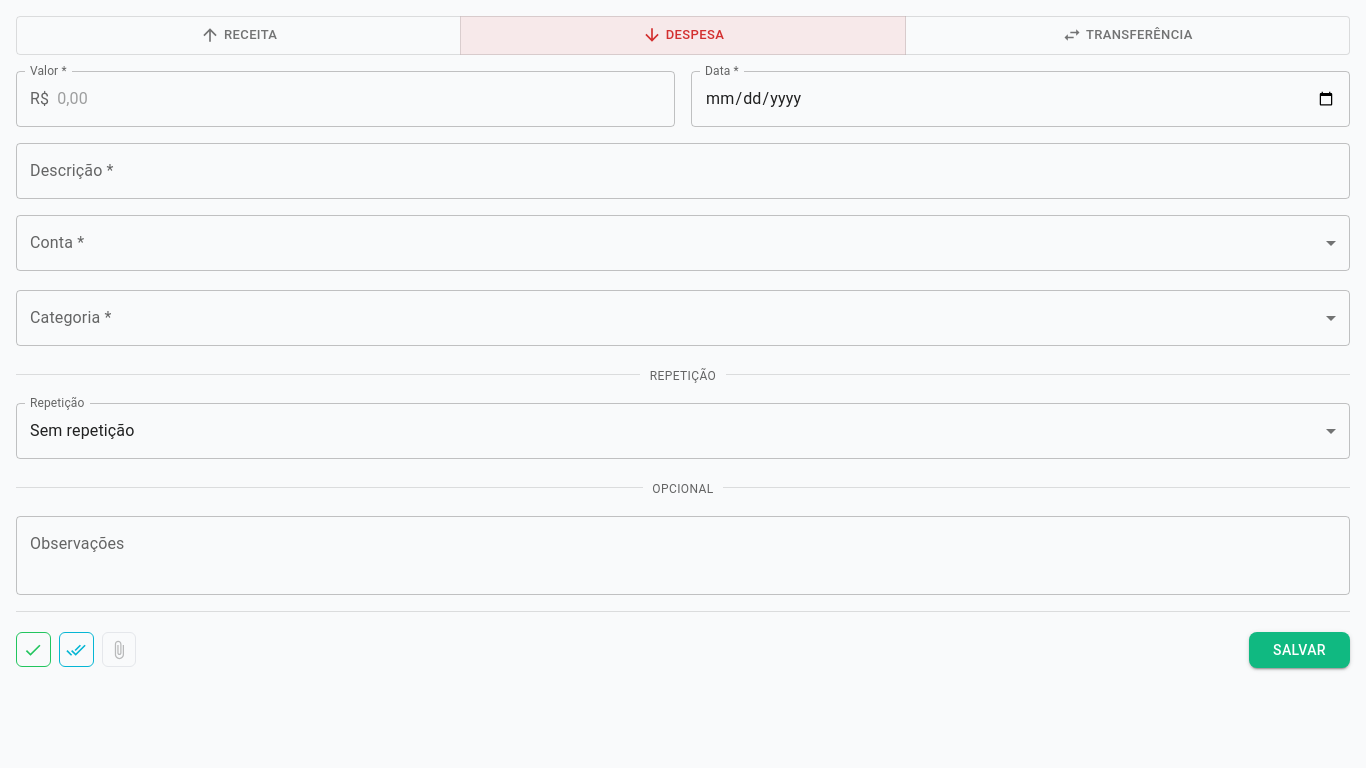
TransactionForm › deve exibir campo N parcelas quando tipo for Parcelado
Press the mouse on the dropdown labelled "Sem repetição": (82, 431) 30,421 -> 134,440
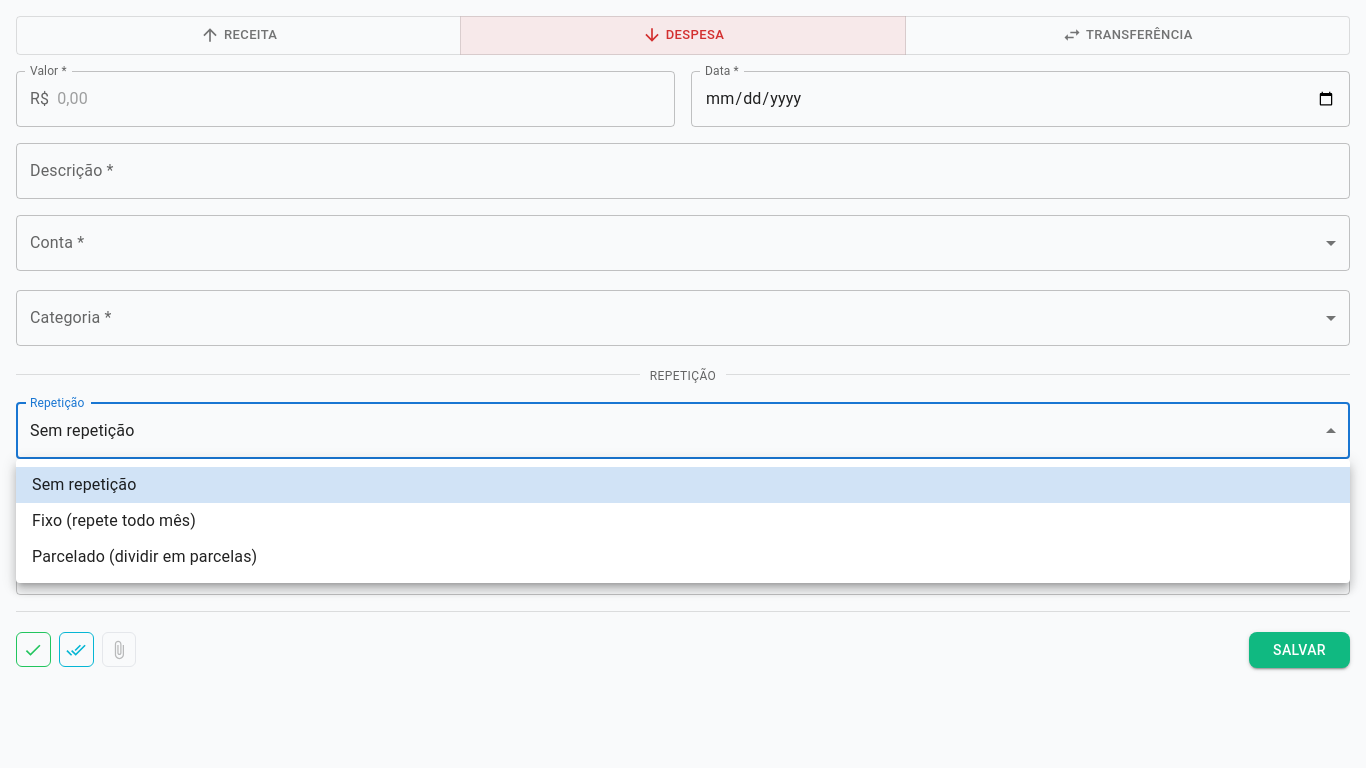
Click the option "Parcelado (dividir em parcelas)": (145, 556) 32,547 -> 257,566
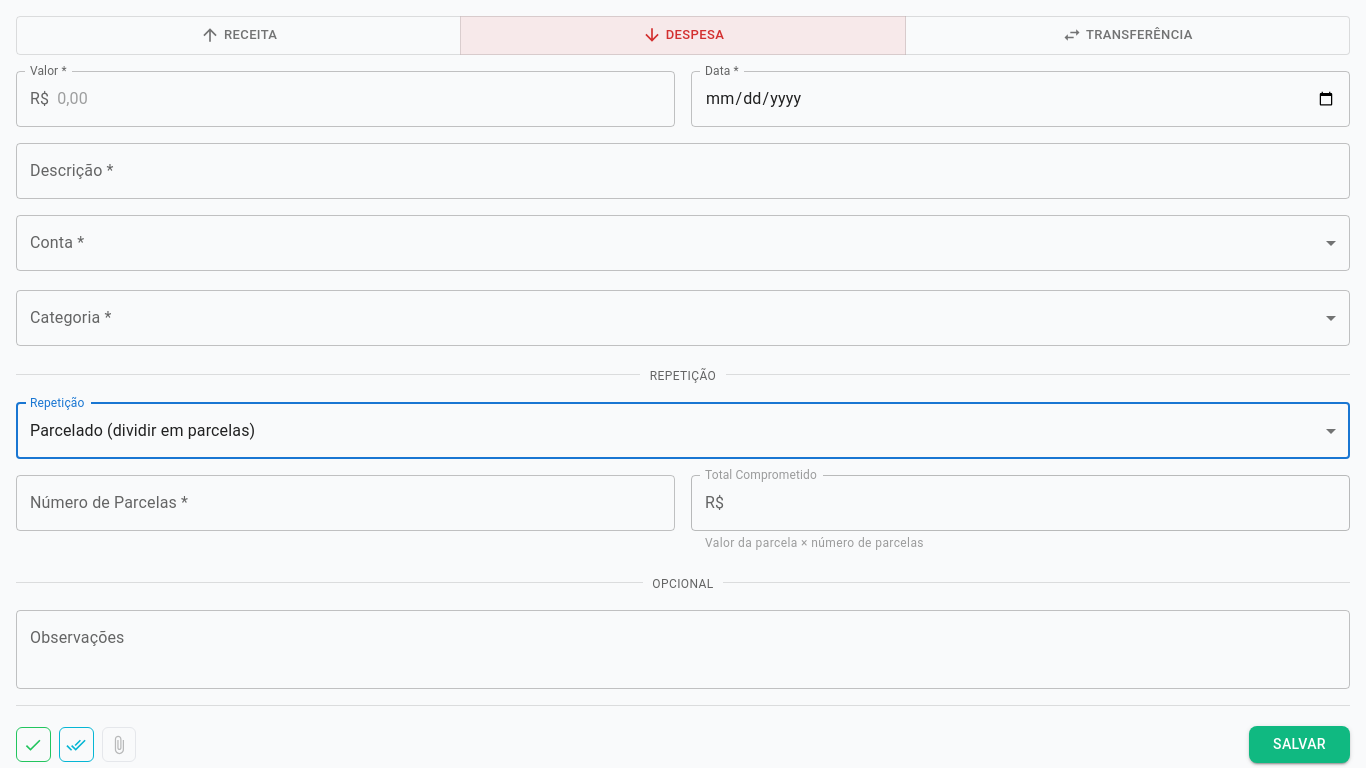
Expected: the number field labelled "Número de Parcelas *" is shown, 16,475 -> 675,531
